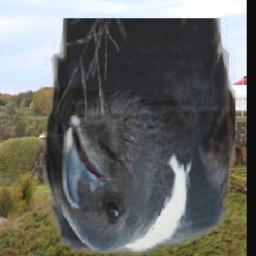Crow: (43, 18, 235, 255)
